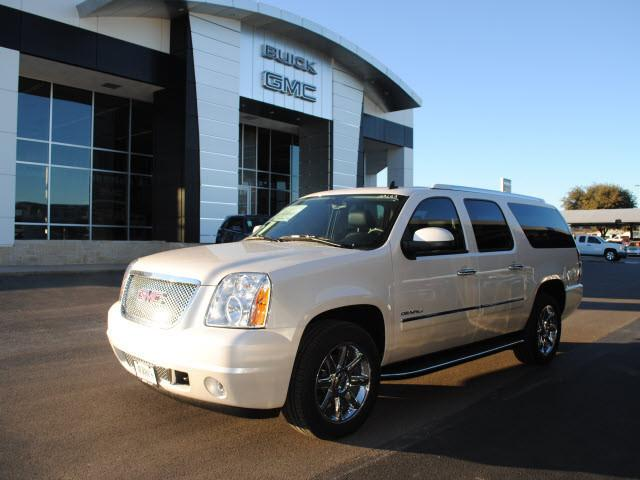GMC: (131, 281, 176, 310)
